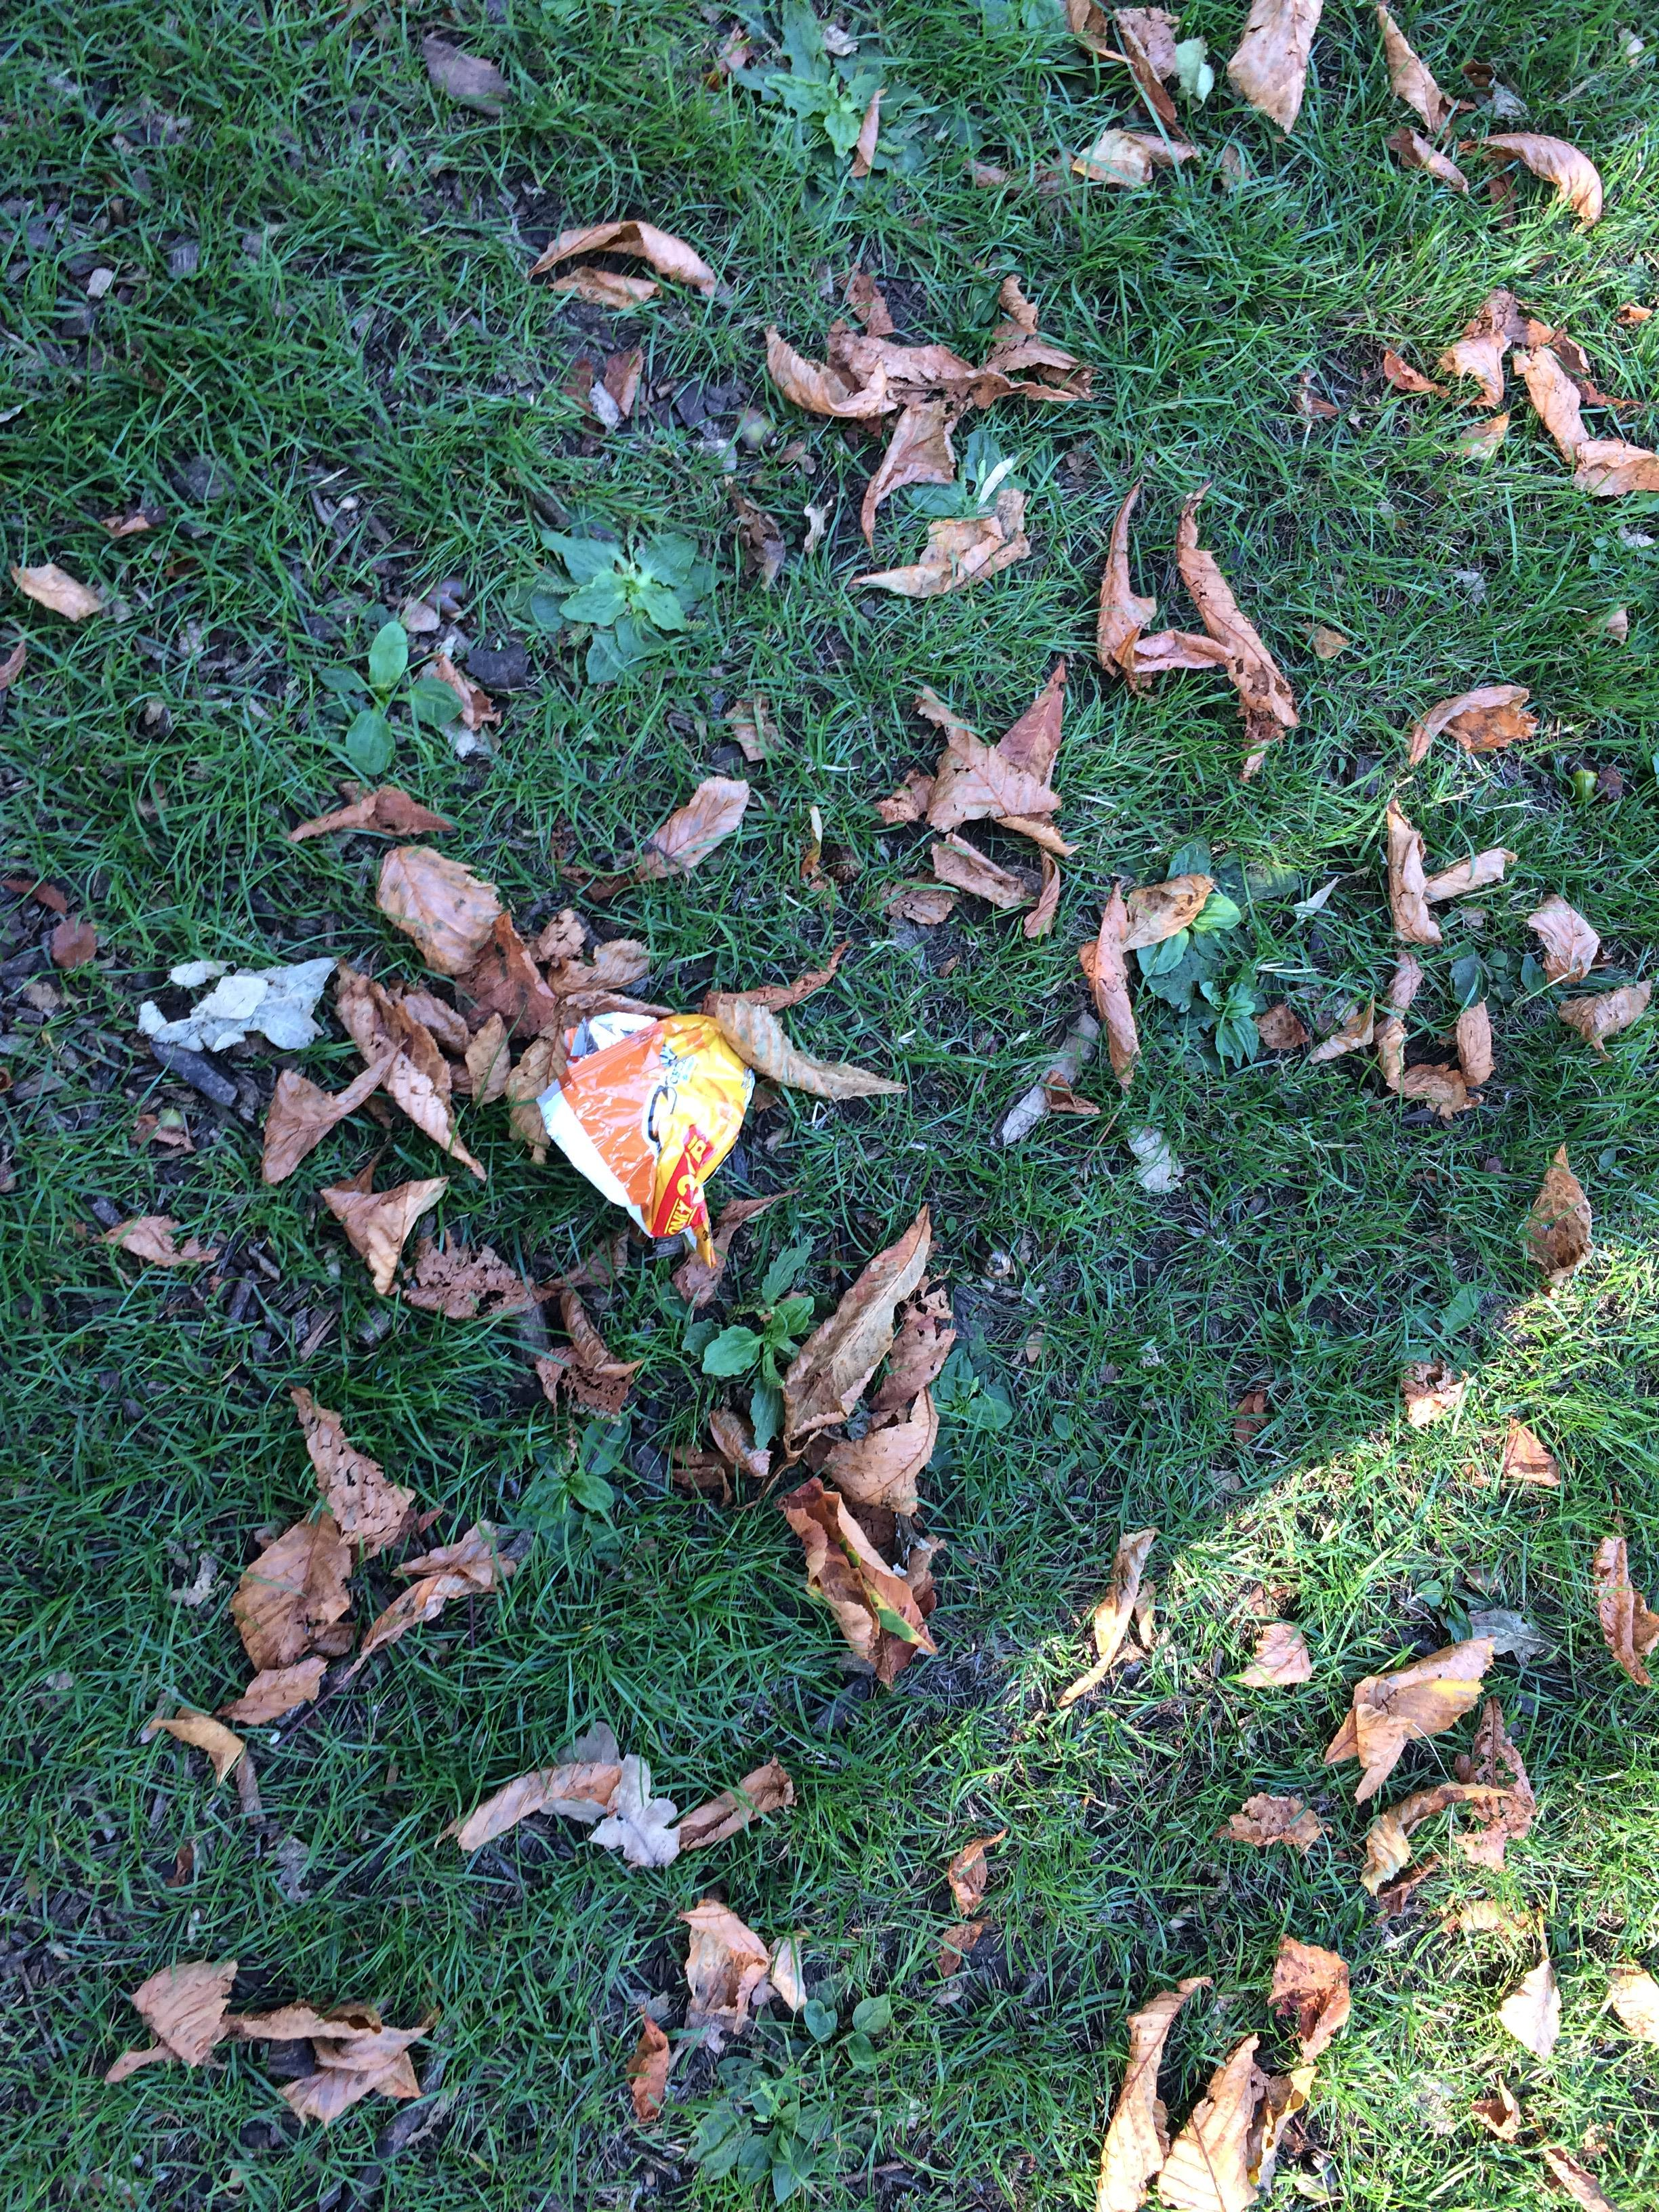Trash: (528, 1005, 760, 1226)
